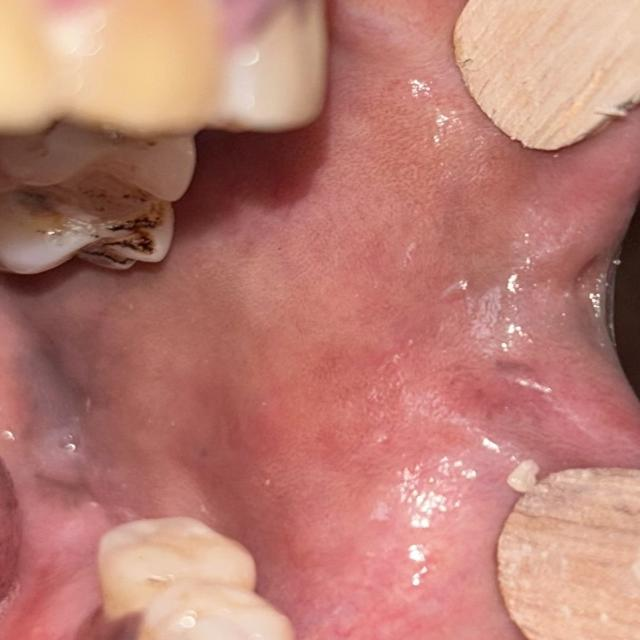leukoplakia-like-detection: (9, 301, 160, 557), (441, 408, 576, 517)
processing_area: (0, 1, 639, 639)
